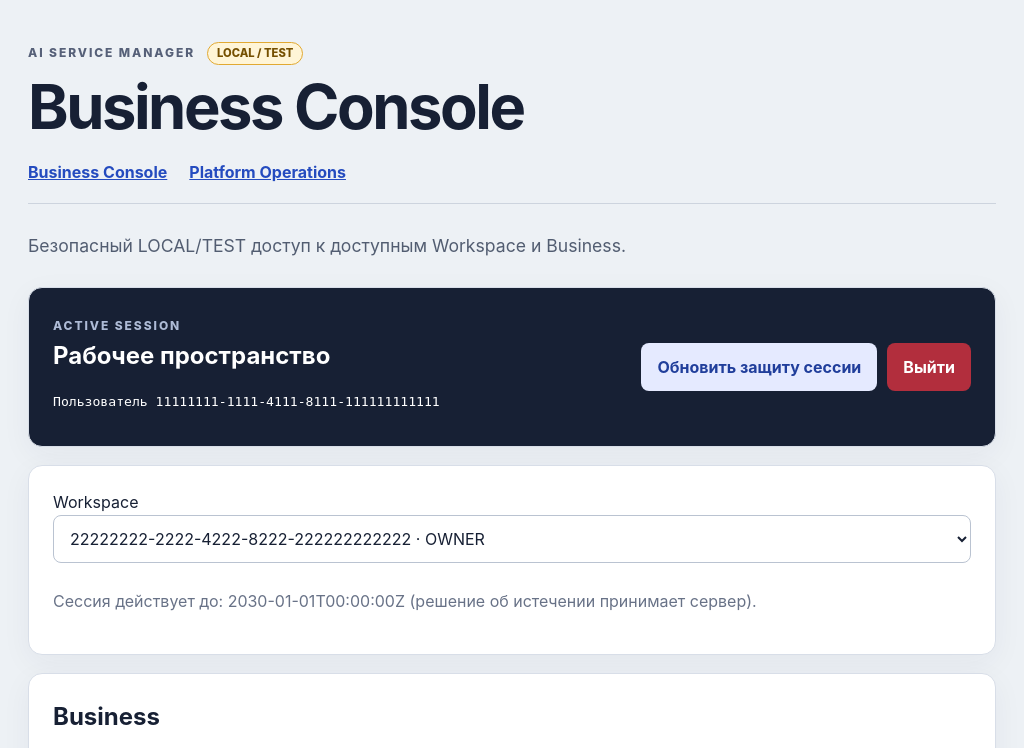
Test: Business Console auth › hands busy ownership to anonymous login after an owned Business SESSION_REQUIRED
This screenshot has width=1024, height=748.
Expected: the text "Пользователь 11111111-1111-4111-8111-111111111111" is shown, [53,394,440,409]
Step 1. Click the button "Обновить защиту сессии" → (759, 367), box [642,343,877,391]
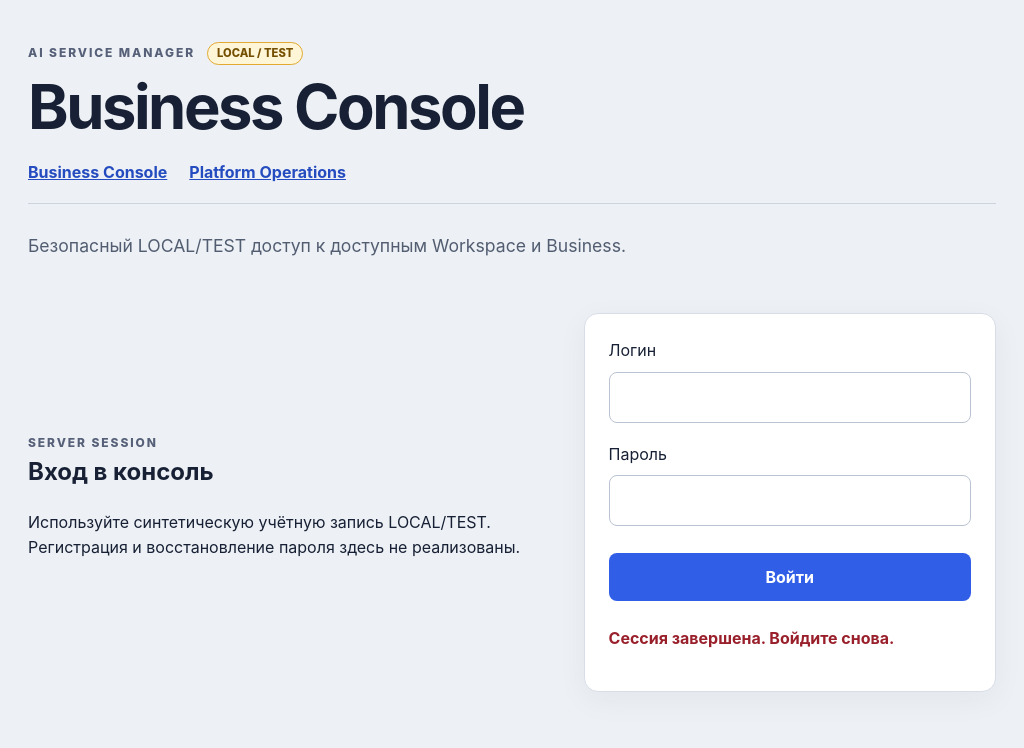
Expected: the text "ACTIVE SESSION" is gone
Expected: the button "Войти" is enabled, [608,553,971,601]
Step 2. Type "owner.test" into the field labelled "Логин" → (790, 397), box [608,372,971,422]
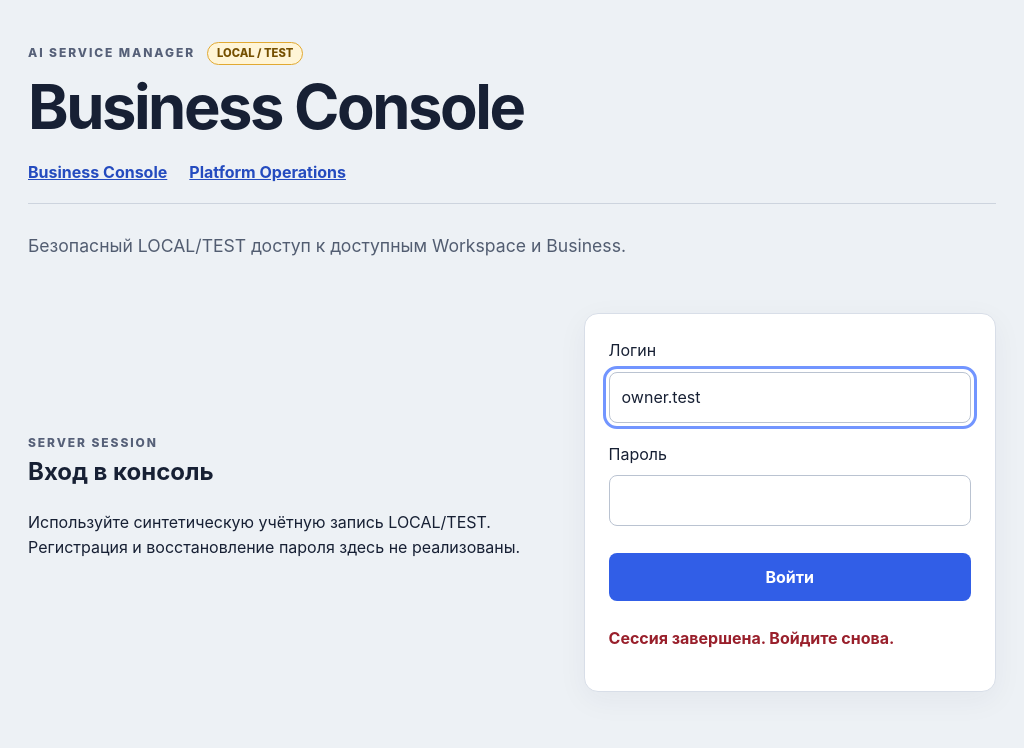
Step 3. Type "correct-password" into the password field labelled "Пароль" → (790, 501), box [608,475,971,526]
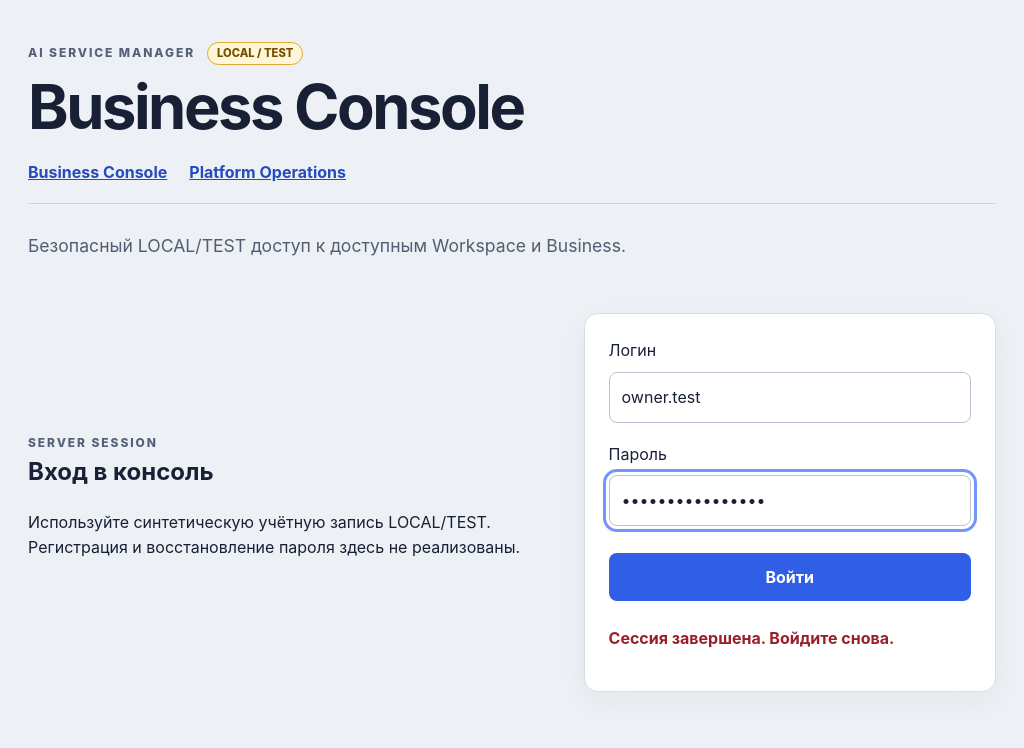
Step 4. Click the button "Войти" → (790, 577), box [608,553,971,601]
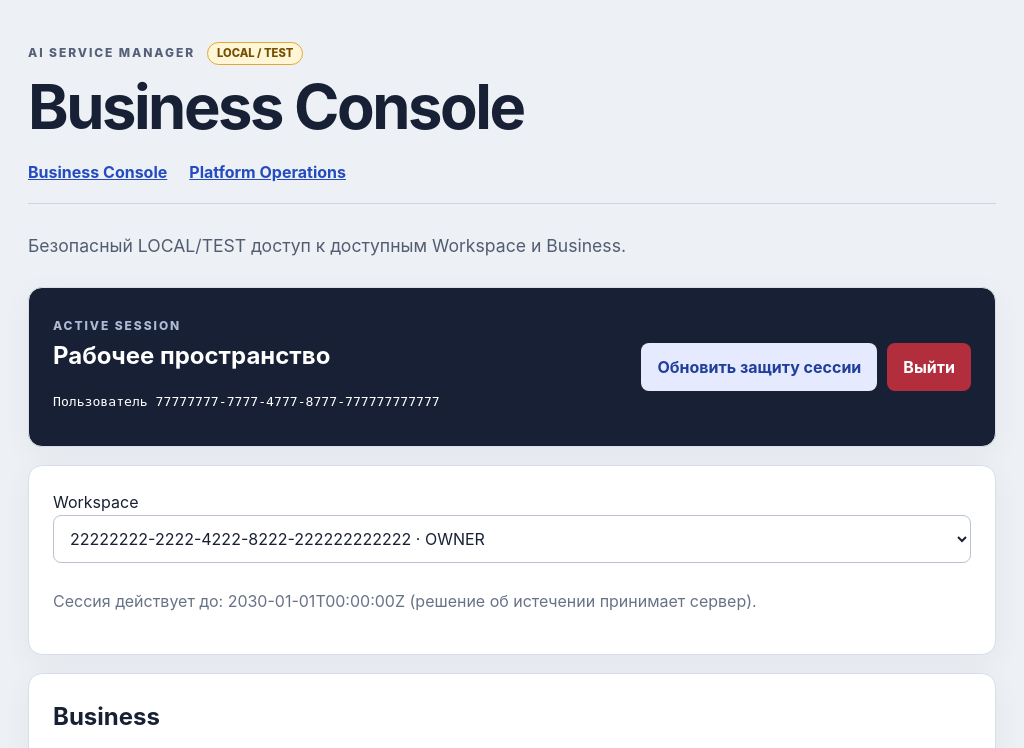
Expected: the text "Пользователь 77777777-7777-4777-8777-777777777777" is shown, [53,394,440,409]
